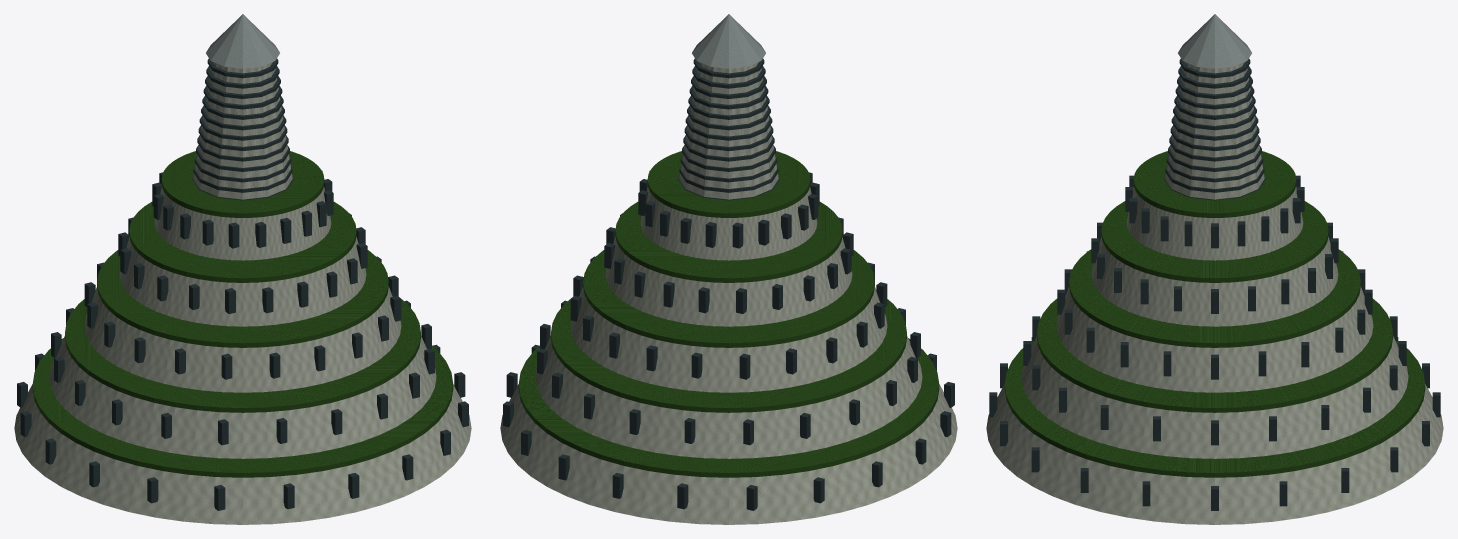
File: garden_arcology_01.fbx
3 renders of one model, left to right at view 1: azimuth 30°, elevation 25°; view 2: azimuth 150°, elevation 25°; view 3: azimuth 270°, elevation 25°, orthographic.
Parts seen in each view (by area): view 1: garden_arcology_01_LOD0; view 2: garden_arcology_01_LOD0; view 3: garden_arcology_01_LOD0.
Boxes of the visible parts, x1,y1,x2,y2 form: garden_arcology_01_LOD0: [14, 14, 471, 524]; garden_arcology_01_LOD0: [500, 14, 957, 524]; garden_arcology_01_LOD0: [986, 14, 1443, 524].
Size of what is drawn, in the model's own units: 1 by 1 by 1.
